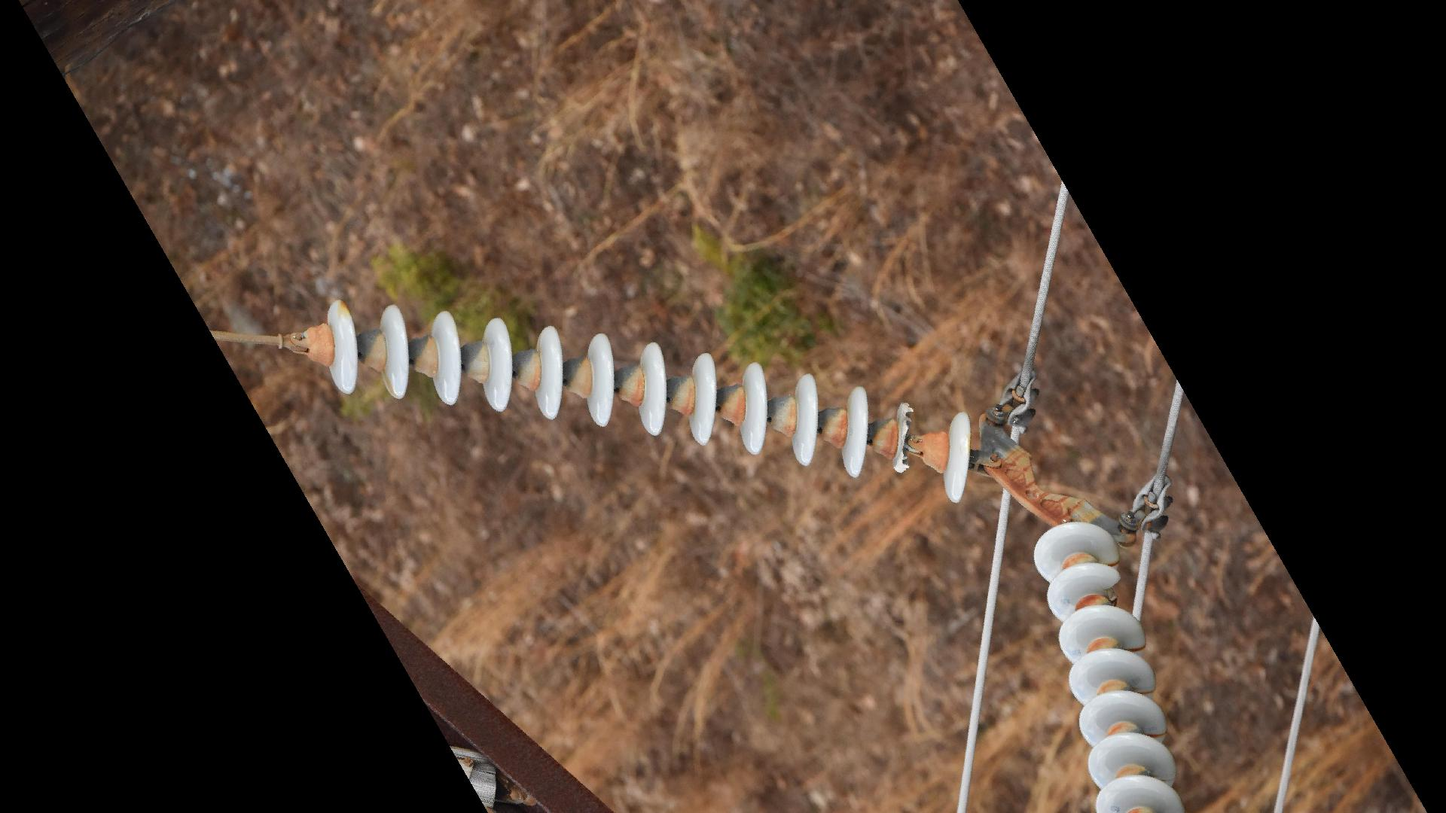insulator: (320, 297, 984, 512), (1025, 517, 1191, 813)
insulator_breakage: (889, 394, 917, 482)
